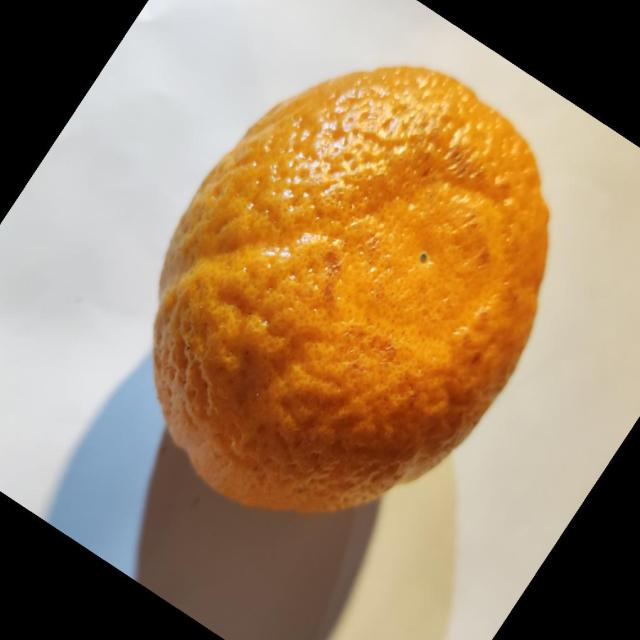fresh orange: (151, 64, 550, 514)
